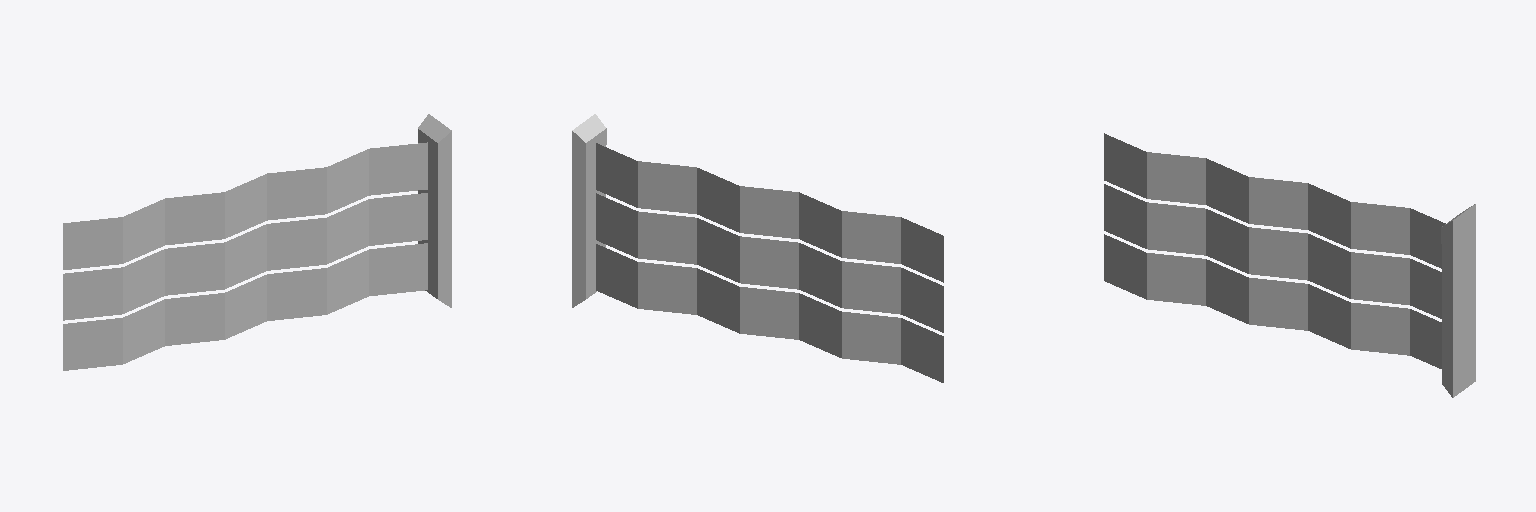
File: ISS_Radiator.obj
3 views of the same model, side by side, from view 1: azimuth 30°, elevation 25°; view 2: azimuth 150°, elevation 25°; view 3: azimuth 330°, elevation 25° (orthographic).
Parts seen in each view (by area): view 1: ISS_Radiator; view 2: ISS_Radiator; view 3: ISS_Radiator.
Boxes of the visible parts, x1,y1,x2,y2 form: ISS_Radiator: [63, 114, 451, 370]; ISS_Radiator: [572, 114, 943, 382]; ISS_Radiator: [1104, 133, 1475, 397].
Bounding box in the file's own units: 19.67 × 9.07 × 2.16.